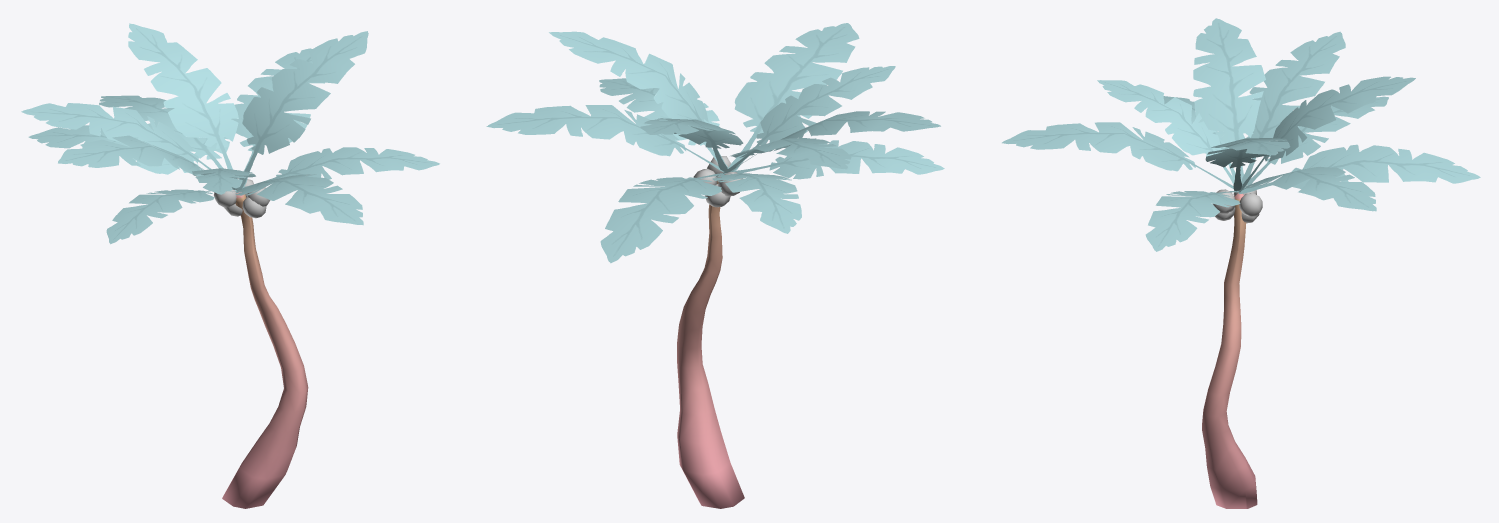
The model's file is M.coconut_tree-v1.1.fbx.
3 renders of one model, left to right at view 1: azimuth 30°, elevation 25°; view 2: azimuth 150°, elevation 25°; view 3: azimuth 270°, elevation 25°, orthographic. The views are drawn at different scales.
Parts seen in each view (by area): view 1: palmtree_04.011; view 2: palmtree_04.011; view 3: palmtree_04.011.
Part boxes in pixels (x1,y1,x2,y2): palmtree_04.011: (21,23,439,508); palmtree_04.011: (486,23,944,508); palmtree_04.011: (1002,18,1480,508).
Size of the model in its own units: 716 by 763 by 818.
